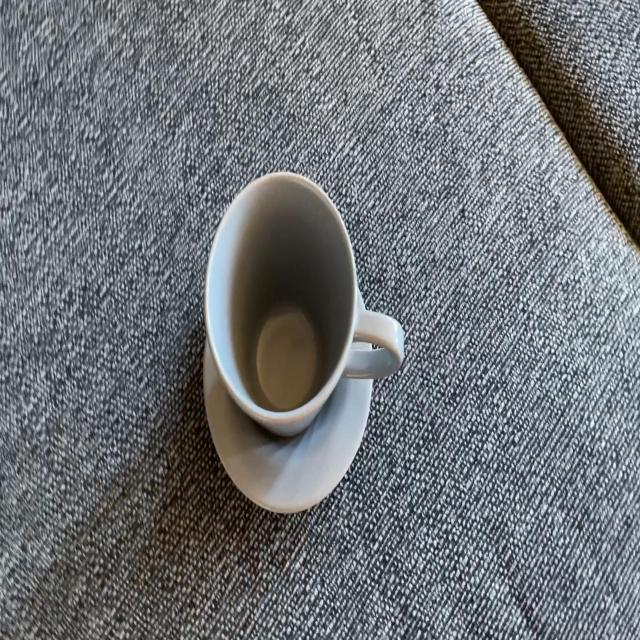cup: (200, 171, 406, 516)
